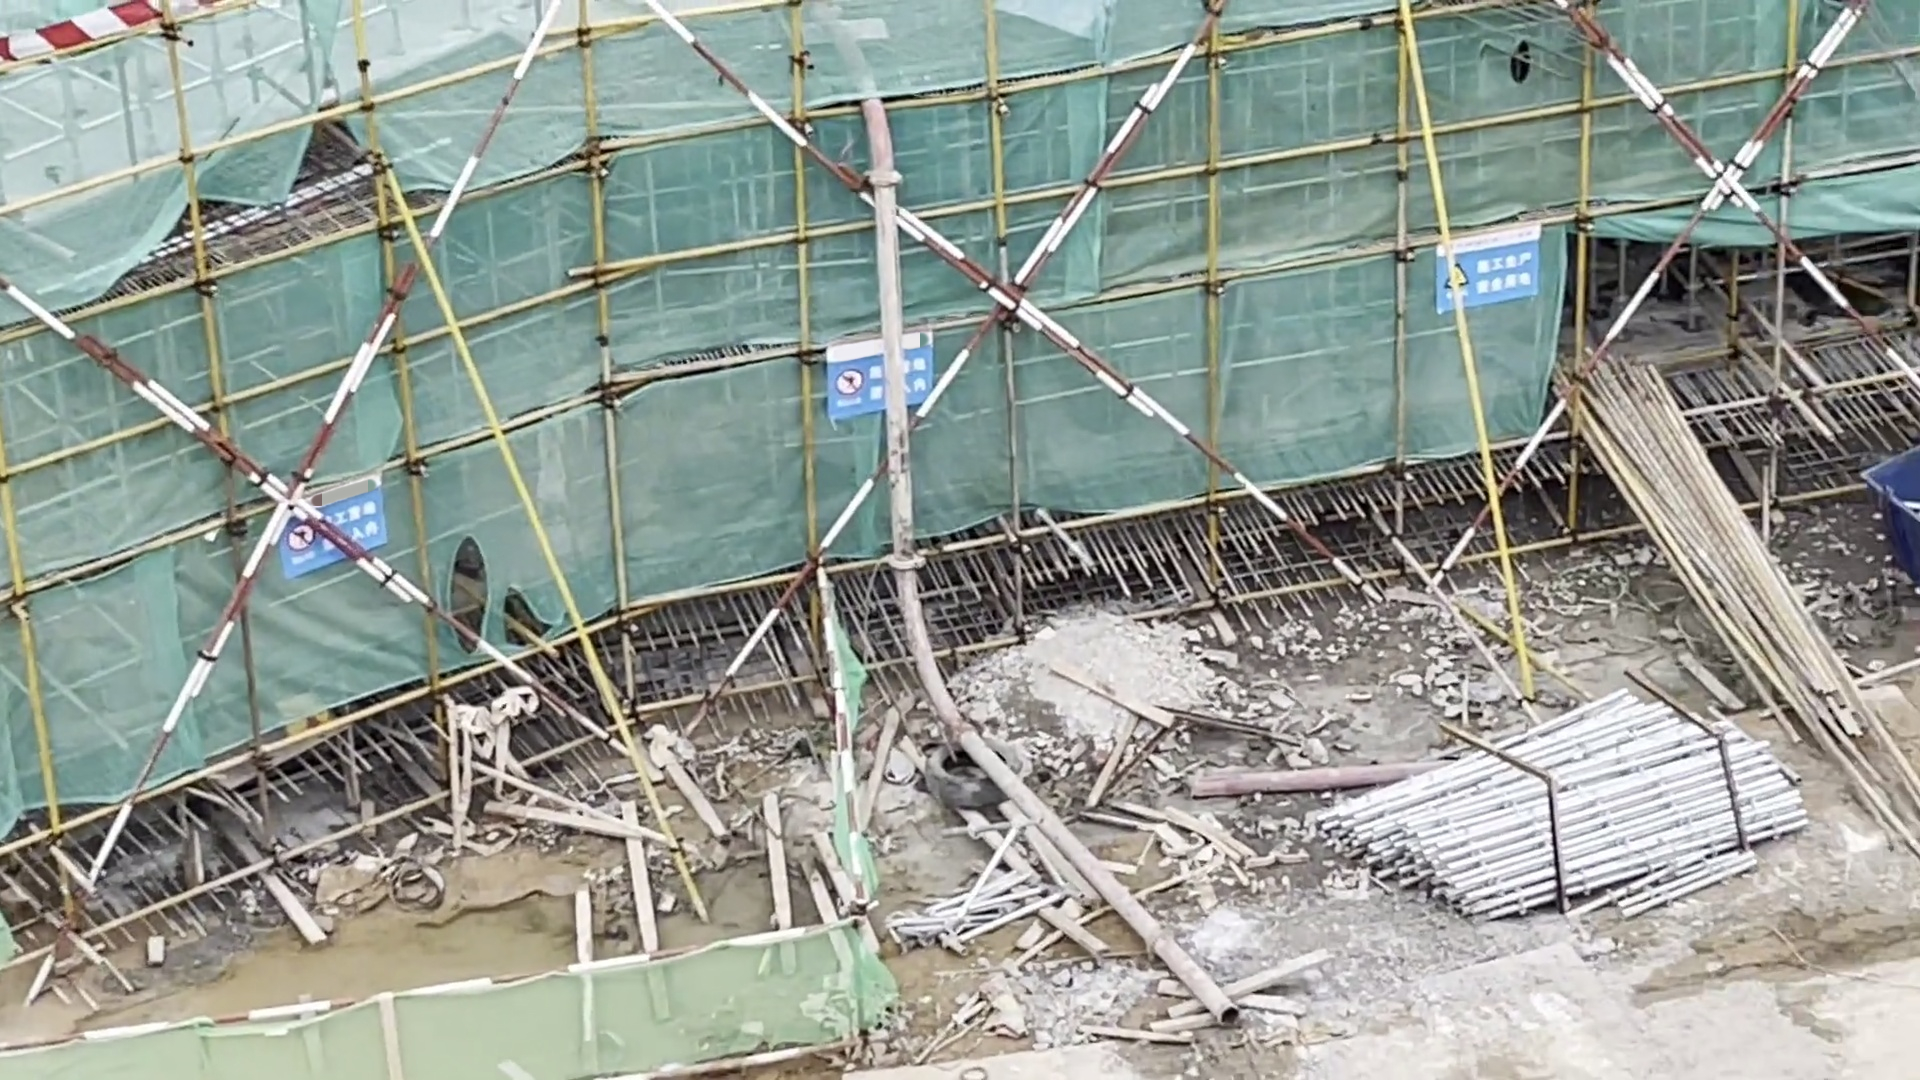hopper: (1859, 386, 1920, 572)
scaffold: (1323, 679, 1811, 927)
wood: (1560, 353, 1920, 851)
